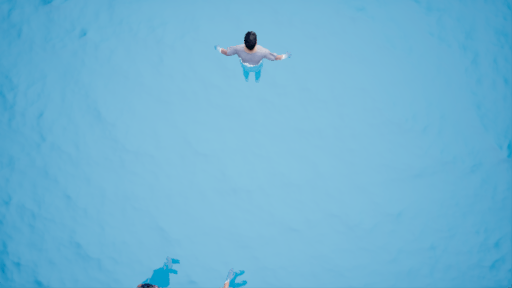person: (216, 22, 288, 91), (142, 253, 186, 288)
